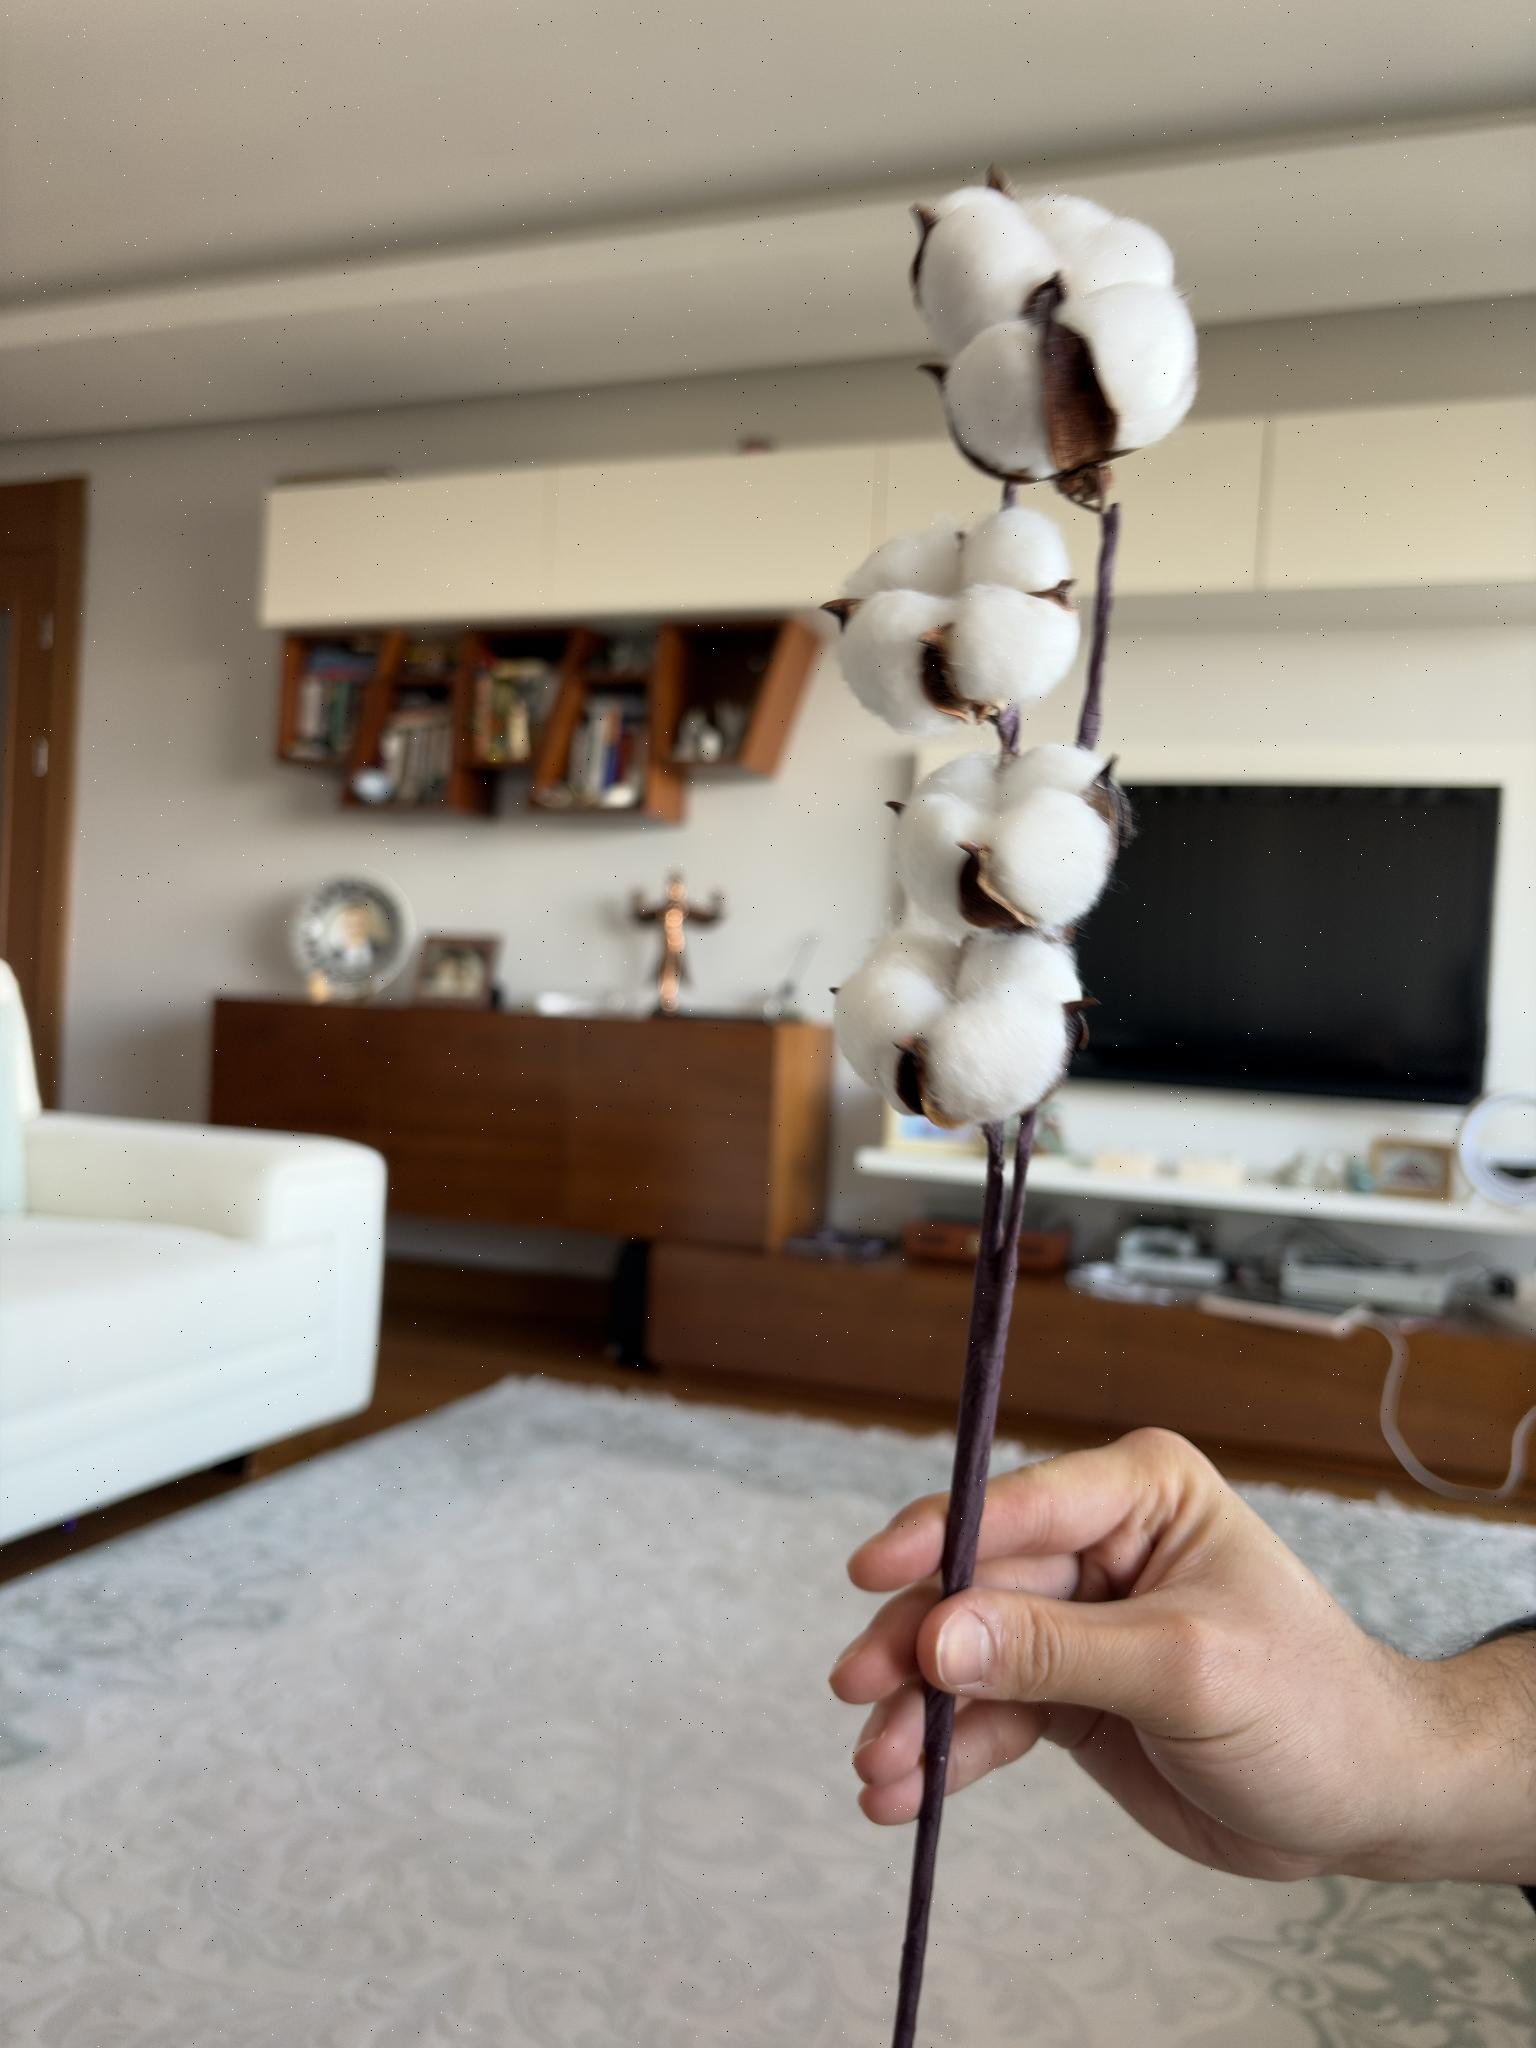cotton_boll: (913, 182, 1058, 352), (1058, 284, 1197, 453), (920, 990, 1076, 1126), (941, 319, 1058, 481), (979, 789, 1113, 929), (837, 589, 955, 737), (944, 582, 1079, 705), (834, 964, 947, 1108), (894, 792, 989, 939), (1049, 216, 1175, 298), (960, 506, 1071, 595), (844, 521, 960, 598), (955, 934, 1083, 1003), (991, 743, 1107, 811), (860, 926, 960, 998), (1023, 194, 1113, 261), (908, 748, 1002, 813)
cotton_boll-cluster: (899, 164, 1239, 489), (820, 487, 1105, 748), (833, 737, 1146, 940), (834, 906, 1104, 1132)
